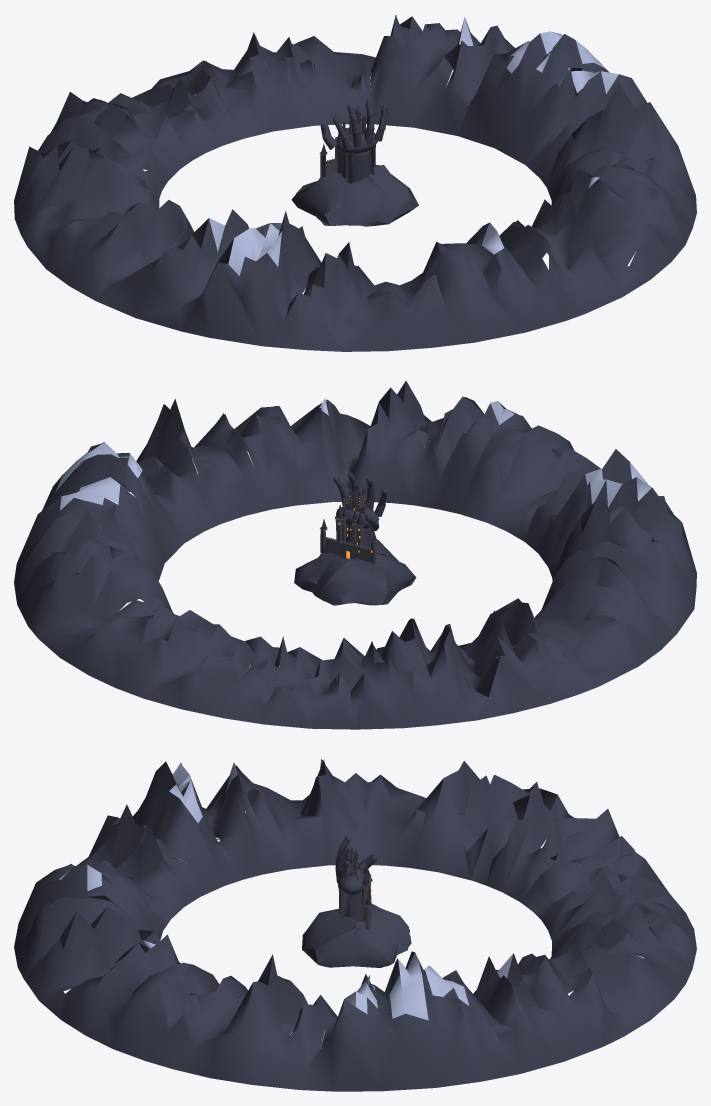
The model's file is backdrop.glb.
3 renders of one model, top to bottom at view 1: azimuth 30°, elevation 25°; view 2: azimuth 150°, elevation 25°; view 3: azimuth 270°, elevation 25°, orthographic.
Visible parts, largest first — view 1: Mountains, CastleHill, GiantHand; view 2: Mountains, CastleHill, GiantHand; view 3: Mountains, CastleHill, GiantHand.
Part boxes in pixels (x1,y1,x2,y2): Mountains: [14, 15, 696, 351]; CastleHill: [291, 109, 418, 226]; GiantHand: [320, 100, 386, 207]; Mountains: [14, 380, 696, 729]; CastleHill: [294, 487, 416, 605]; GiantHand: [325, 472, 387, 591]; Mountains: [14, 759, 696, 1091]; CastleHill: [302, 850, 411, 967]; GiantHand: [335, 836, 377, 934].
Bounding box in the file's own units: 520 × 91.07 × 521.
